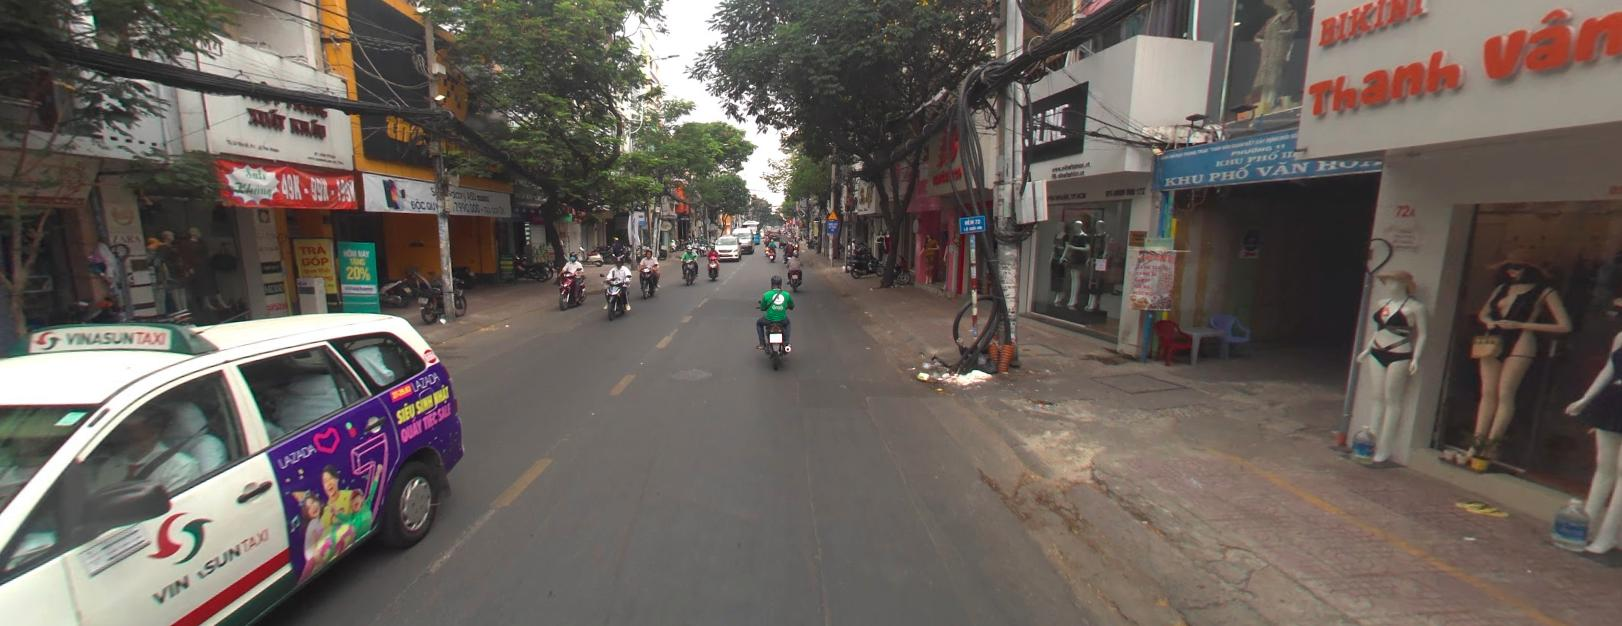Cam dung va do: (795, 218, 799, 222)
Nguy hiem: (827, 208, 838, 217)
